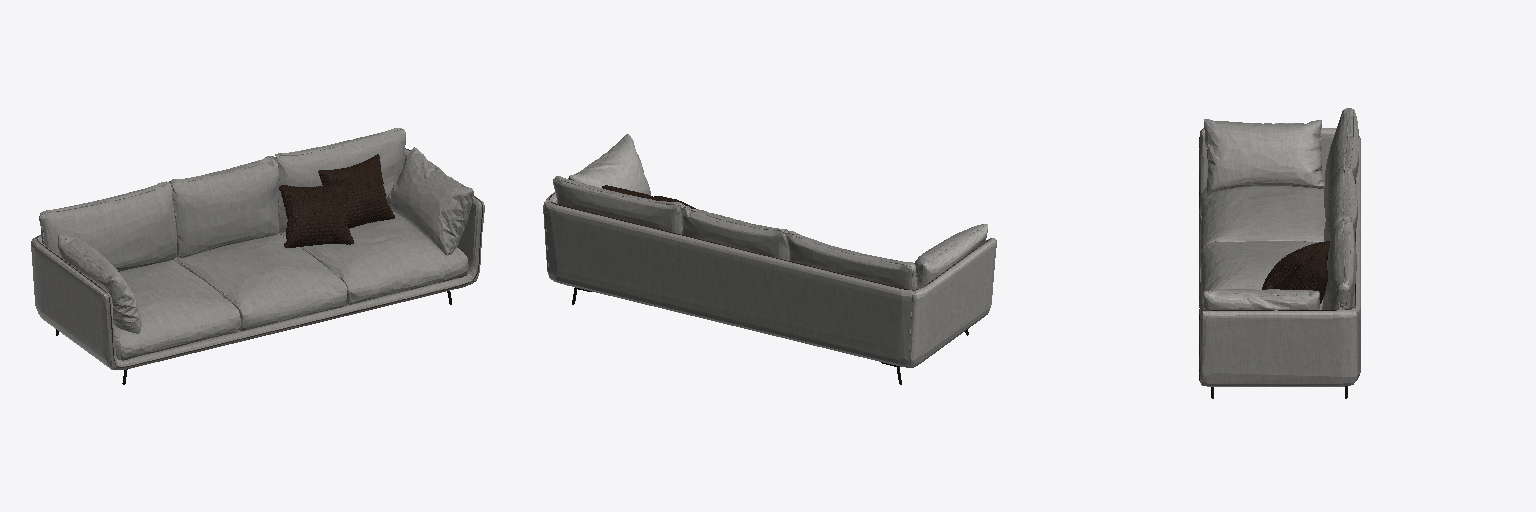
3 views of the same model, side by side, from view 1: azimuth 30°, elevation 25°; view 2: azimuth 150°, elevation 25°; view 3: azimuth 270°, elevation 25° (orthographic).
Visible parts, largest first — view 1: solid_002, solid_004, solid_001; view 2: solid_002; view 3: solid_002, solid_004.
Boxes of the visible parts, x1,y1,x2,y2 form: solid_002: [31, 128, 484, 369]; solid_004: [279, 154, 394, 247]; solid_001: [36, 148, 482, 367]; solid_002: [543, 134, 996, 367]; solid_002: [1199, 108, 1360, 386]; solid_004: [1262, 241, 1330, 303].
Size of the model in its own units: 2.83 by 0.9051 by 1.04.
Materials: 1 (1 with a texture image).